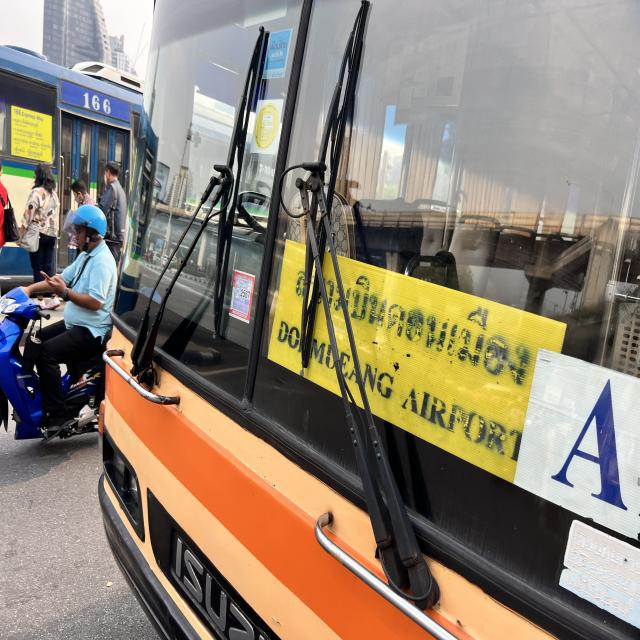BMTA-bus: (91, 0, 640, 640)
Destination-Sign-Normal-Expressway: (264, 238, 564, 491)
